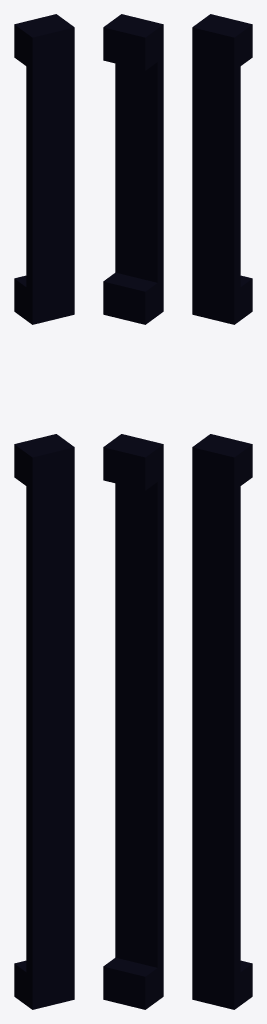
The model's file is Fridge Handles.obj.
3 views of the same model, side by side, from view 1: azimuth 30°, elevation 25°; view 2: azimuth 150°, elevation 25°; view 3: azimuth 330°, elevation 25° (orthographic).
Bounding box in the file's own units: 0.4 × 8.8 × 0.3.
Materials: 1 (1 with a texture image).
